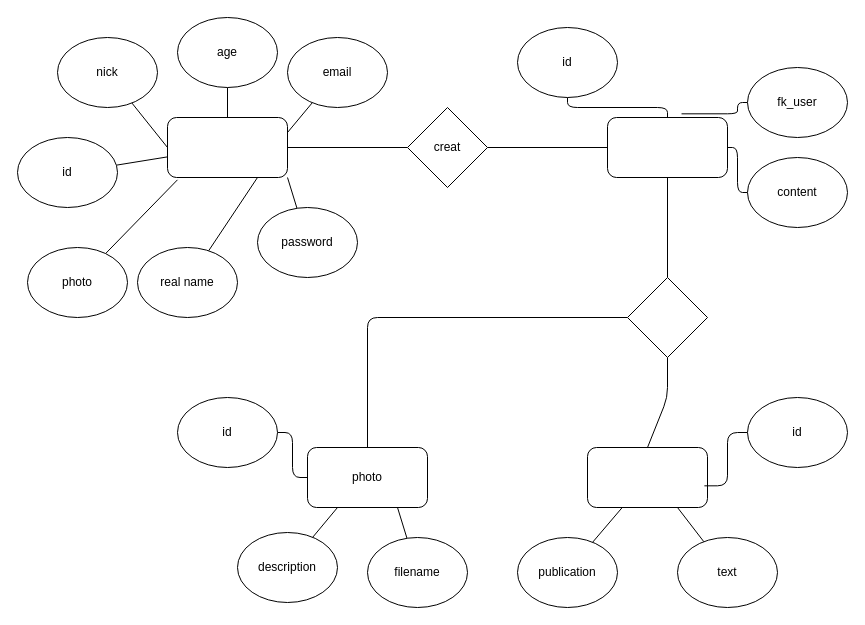
This 865x625 diagram has some shape labels left out. Here are the shapes that lost their labels. From the top down, the box of each, then its label:
(166, 116, 288, 178): user profiles
(606, 116, 728, 178): post
(626, 276, 708, 358): has
(586, 446, 708, 508): comment
